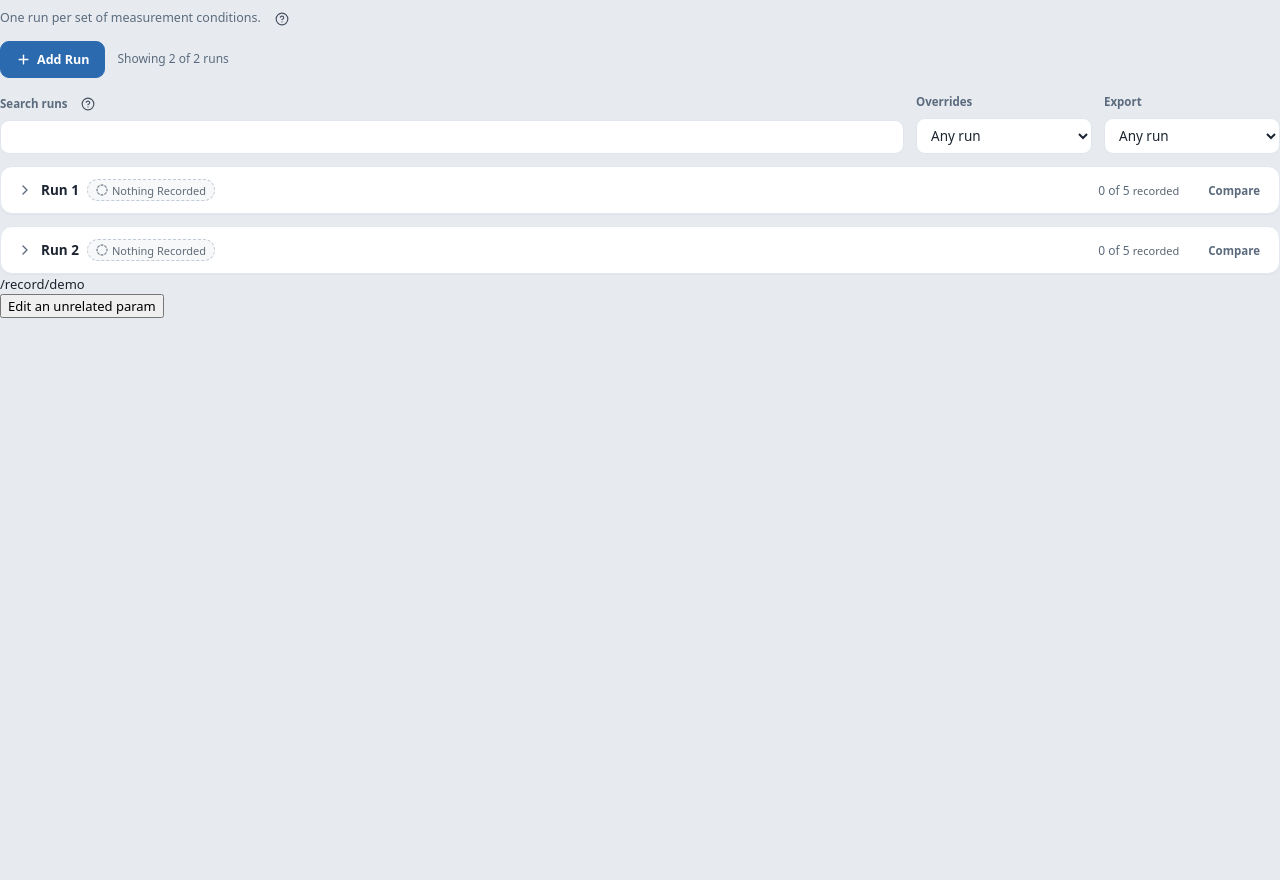
Test: the confirmation › THE NEGATIVE CONTROL: opening the panel sends NOTHING
This screenshot has width=1280, height=880.
Expected: the text "Showing 2 of 2 runs" is shown, [117,50,229,69]
Click the button named "Open ": click(33, 199) [1,167,1195,213]
(page scrolled)
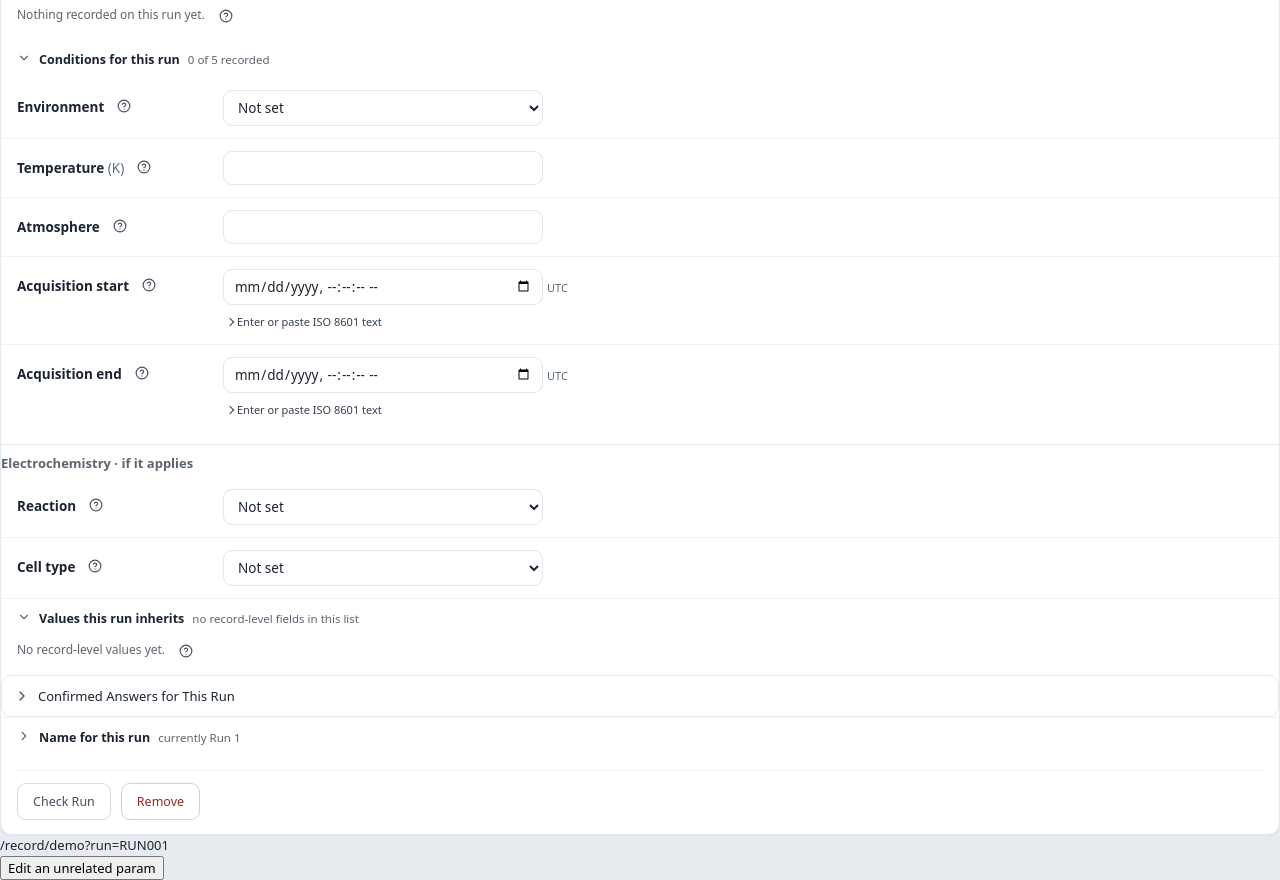
Click the button with aria-label "Remove run Run 1 from this record": click(160, 802) [121,783,200,820]
(page scrolled)
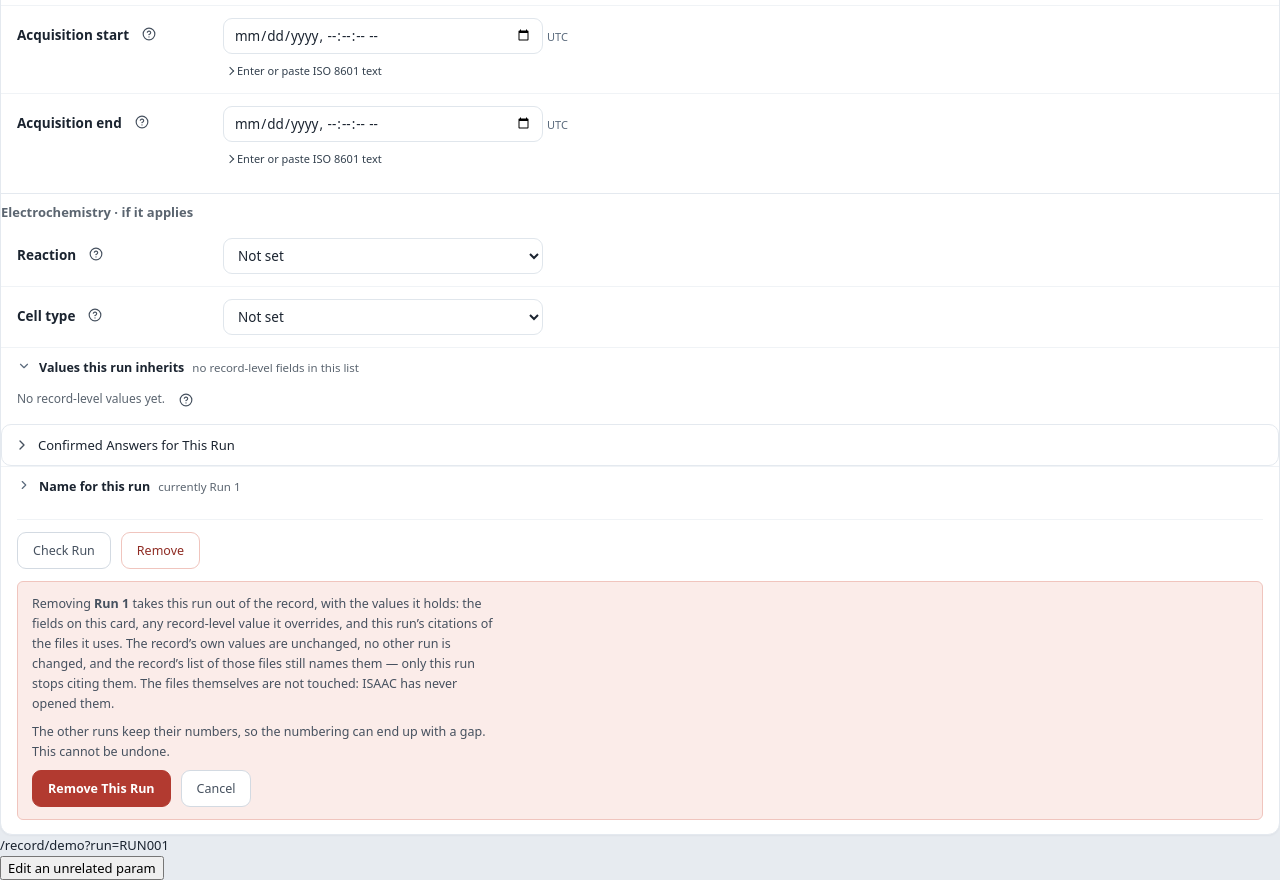
Now the button with aria-label "Remove run Run 1 from this record" is expanded, box [121,532,200,569]
Now the text "takes this run out of the record" is shown, box [32,595,493,712]
